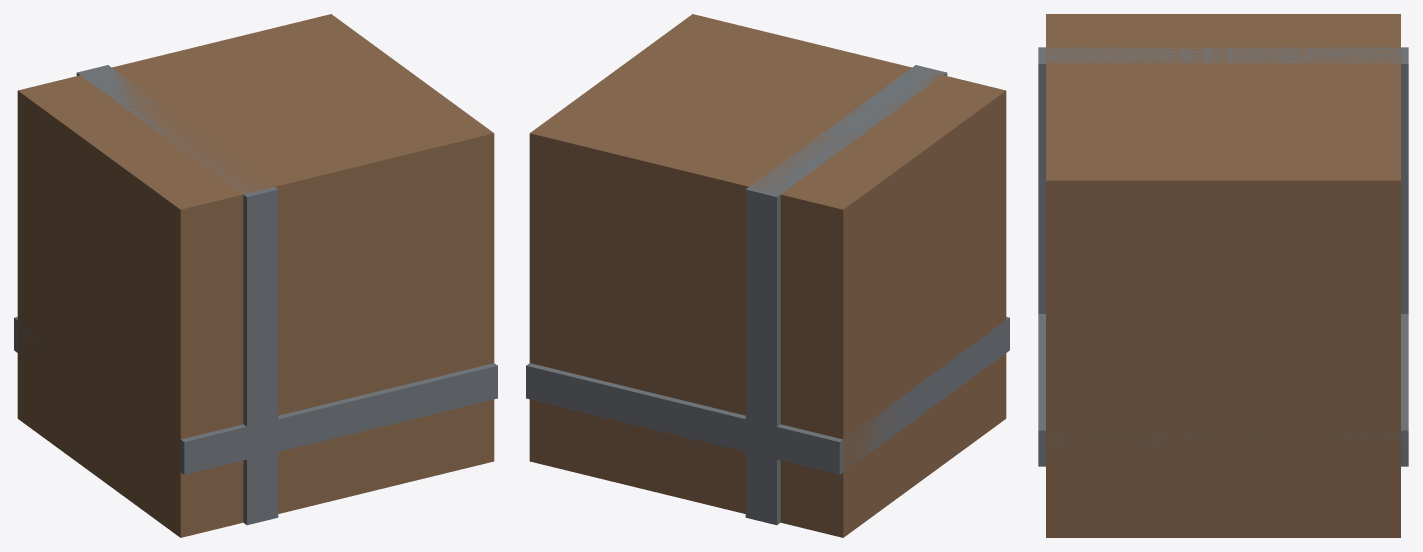
Rendered from crate.glb.
The picture shows the model from 3 angles, left to right: view 1: azimuth 30°, elevation 25°; view 2: azimuth 150°, elevation 25°; view 3: azimuth 270°, elevation 25°; orthographic projection. The views are drawn at different scales.
Visible parts, largest first — view 1: g0_crate, g1_band, g2_band; view 2: g0_crate, g1_band, g2_band; view 3: g0_crate, g1_band, g2_band.
Part boxes in pixels (x1,y1,x2,y2): g0_crate: [17, 14, 494, 537]; g1_band: [76, 65, 278, 525]; g2_band: [14, 317, 497, 474]; g0_crate: [529, 14, 1006, 537]; g1_band: [745, 65, 947, 525]; g2_band: [526, 317, 1009, 474]; g0_crate: [1046, 14, 1400, 537]; g1_band: [1038, 47, 1408, 313]; g2_band: [1038, 314, 1408, 466].
Bounding box in the file's own units: 1 × 1 × 0.94.
